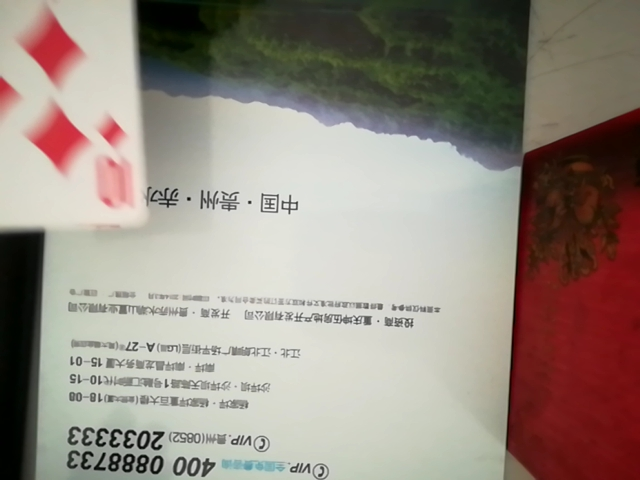fk 10: (0, 0, 153, 235)
